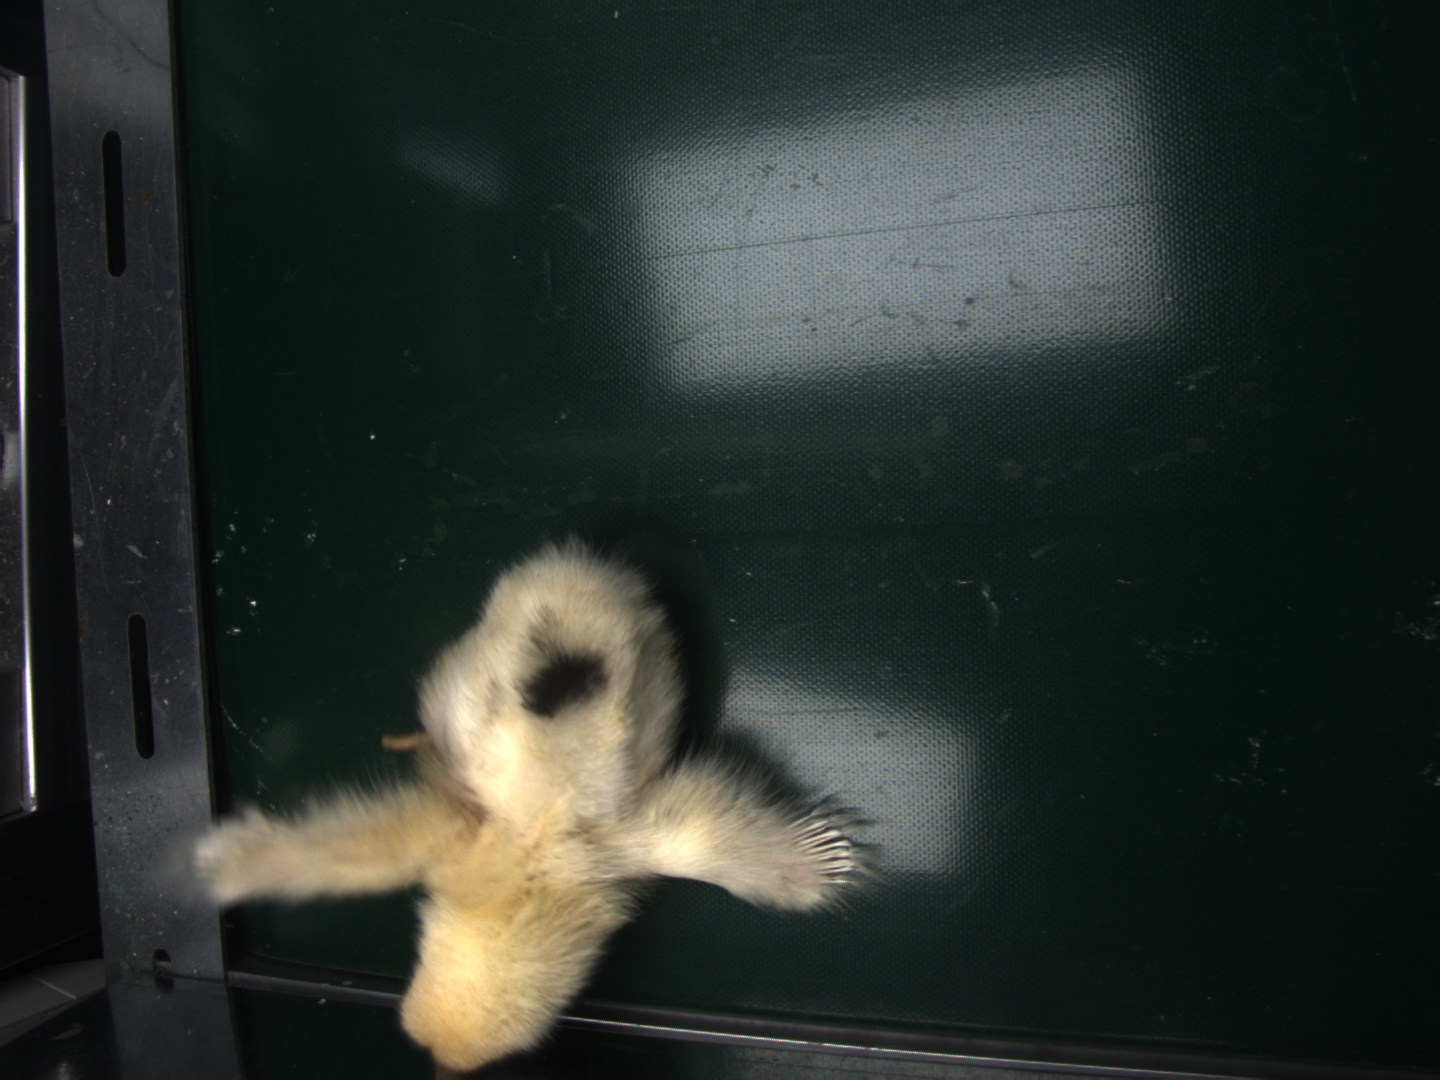male: (783, 810, 859, 898)
